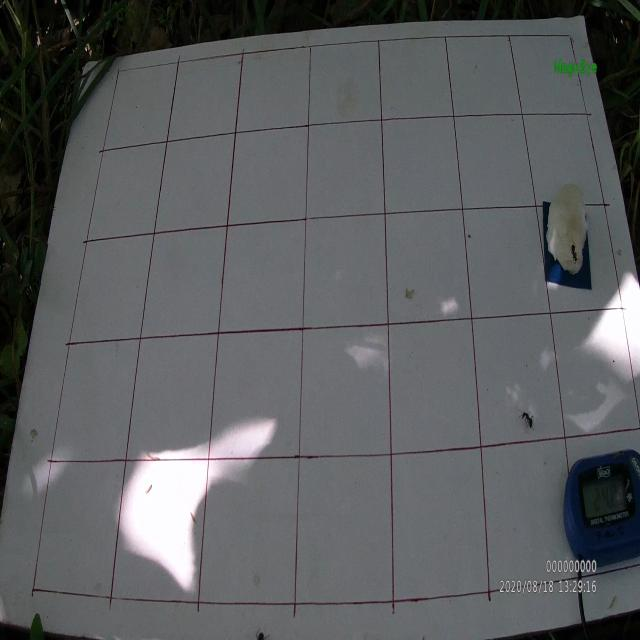Ant: (517, 408, 534, 431), (568, 238, 578, 264)
